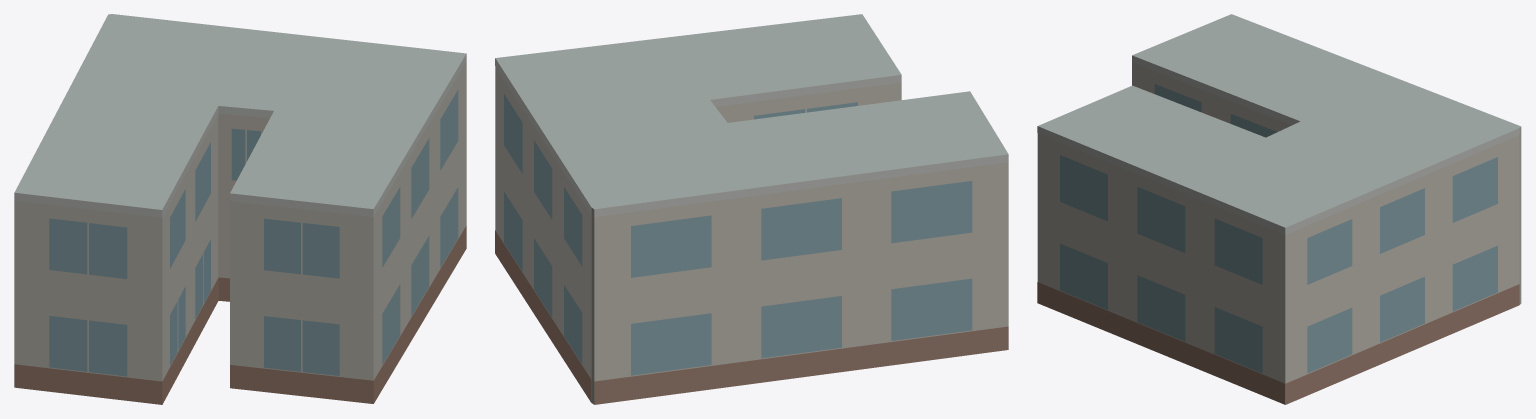
The model's file is survey-upis-32769910.glb.
The picture shows the model from 3 angles, left to right: view 1: azimuth 30°, elevation 25°; view 2: azimuth 150°, elevation 25°; view 3: azimuth 270°, elevation 25°; orthographic projection. The views are drawn at different scales.
Visible parts, largest first — view 1: survey-upis-32769910.tmp; view 2: survey-upis-32769910.tmp; view 3: survey-upis-32769910.tmp.
Boxes of the visible parts, x1=… form: survey-upis-32769910.tmp: x1=14, y1=14, x2=466, y2=404; survey-upis-32769910.tmp: x1=495, y1=14, x2=1008, y2=404; survey-upis-32769910.tmp: x1=1037, y1=14, x2=1521, y2=404.
Bounding box in the file's own units: 15.8 × 6.1 × 15.11.
